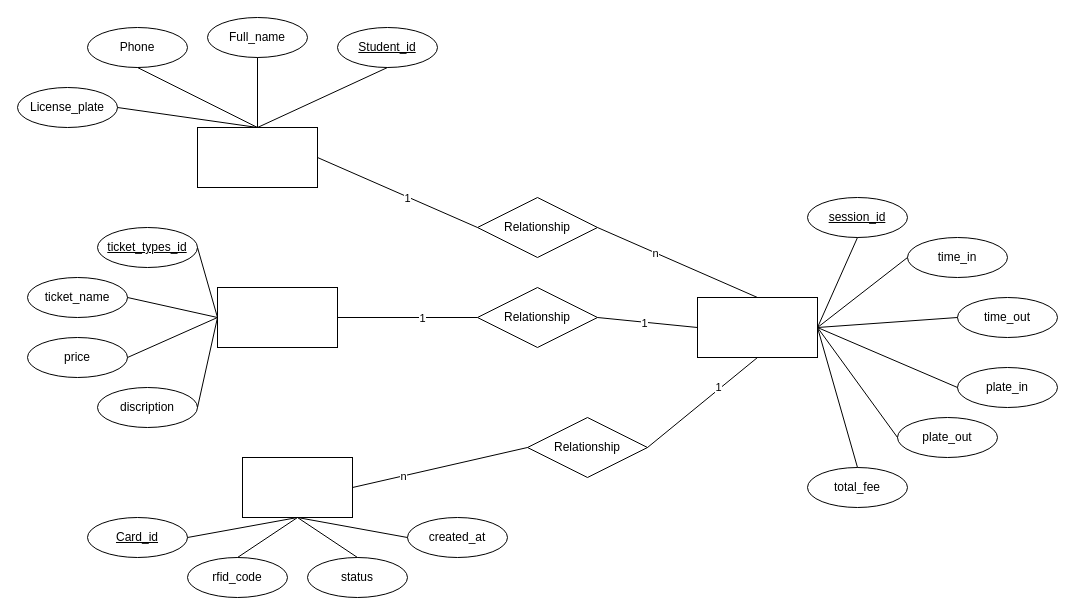
Some shapes in this 1075 by 615 pixel diagram are drawn without their labels. The shapes that lost their labels are listed below. From the top down, each one's box as (x1, y1, x2, y2) in pixels, then its label:
(196, 126, 318, 188): students
(216, 286, 338, 348): ticket_types
(696, 296, 818, 358): parking_sessions
(242, 456, 352, 518): rfid_card
